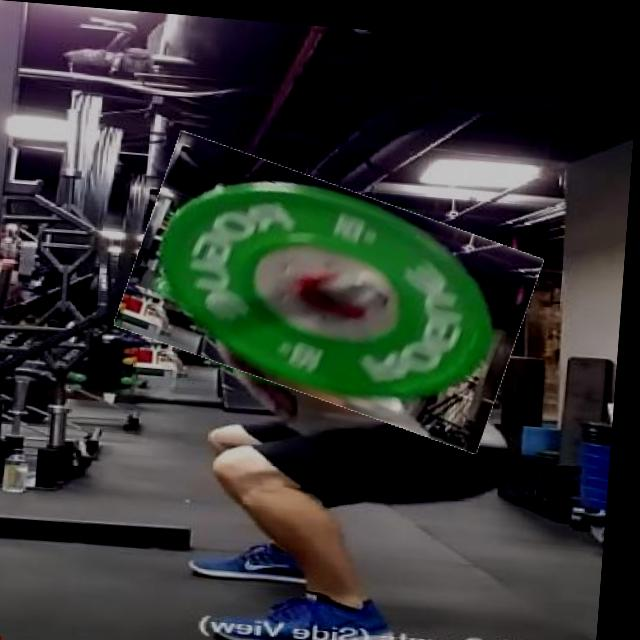barbell: (125, 149, 543, 427)
